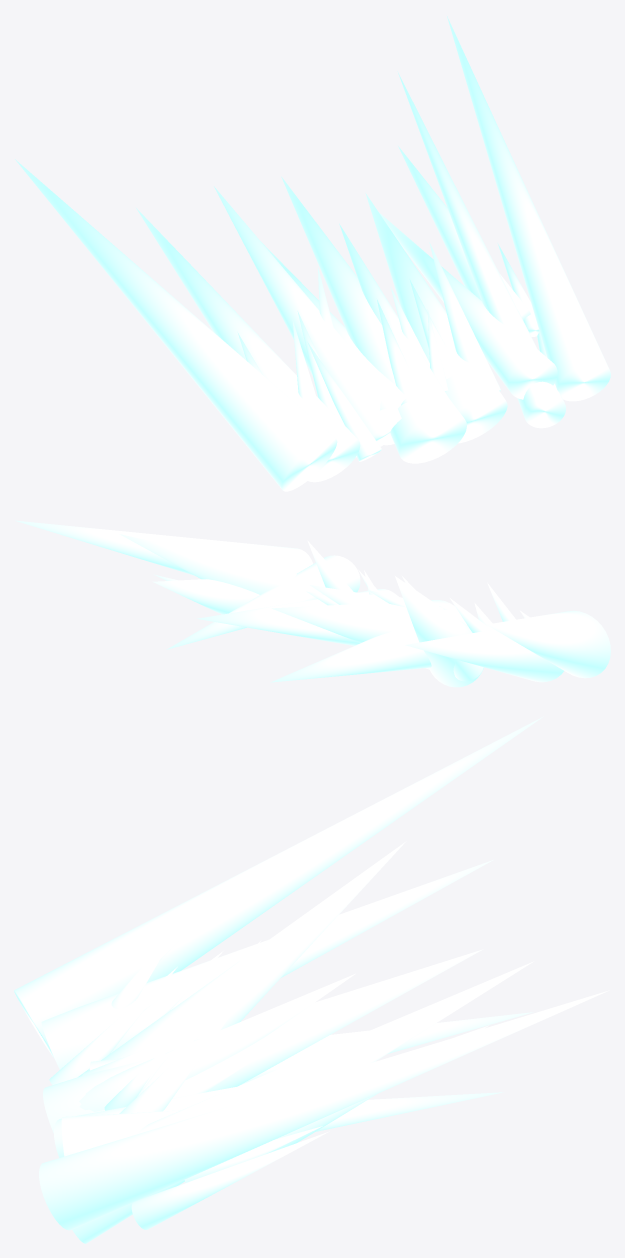
The model's file is ice_spikes.fbx.
3 renders of one model, top to bottom at view 1: azimuth 30°, elevation 25°; view 2: azimuth 150°, elevation 25°; view 3: azimuth 270°, elevation 25°, orthographic. The views are drawn at different scales.
Parts seen in each view (by area): view 1: Cone, Cone.014, Cone.011, Cone.010, Cone.004, Cone.001, Cone.021, Cone.012, Cone.013, Cone.003, Cone.019, Cone.022 (+7 smaller); view 2: Cone, Cone.014, Cone.002, Cone.001, Cone.011, Cone.021, Cone.012, Cone.010, Cone.004, Cone.013, Cone.003, Cone.019 (+4 smaller); view 3: Cone.014, Cone, Cone.011, Cone.010, Cone.021, Cone.001, Cone.012, Cone.003, Cone.020, Cone.019, Cone.002, Cone.022 (+9 smaller).
Boxes of the visible parts, bbox=[...] form: Cone: bbox=[15, 159, 337, 491]; Cone.014: bbox=[447, 16, 610, 401]; Cone.011: bbox=[281, 176, 466, 463]; Cone.010: bbox=[214, 186, 401, 457]; Cone.004: bbox=[365, 193, 507, 443]; Cone.001: bbox=[136, 208, 360, 482]; Cone.021: bbox=[397, 71, 565, 428]; Cone.012: bbox=[379, 212, 557, 399]; Cone.013: bbox=[398, 146, 530, 320]; Cone.003: bbox=[339, 223, 449, 399]; Cone.019: bbox=[429, 242, 500, 391]; Cone.022: bbox=[307, 341, 381, 461]; Cone: bbox=[487, 610, 610, 678]; Cone.014: bbox=[15, 520, 313, 575]; Cone.002: bbox=[270, 608, 464, 682]; Cone.001: bbox=[405, 629, 563, 682]; Cone.011: bbox=[271, 600, 466, 669]; Cone.021: bbox=[119, 534, 296, 594]; Cone.012: bbox=[166, 555, 360, 649]; Cone.010: bbox=[395, 576, 483, 687]; Cone.004: bbox=[197, 589, 398, 645]; Cone.013: bbox=[152, 579, 259, 614]; Cone.003: bbox=[310, 585, 387, 604]; Cone.019: bbox=[307, 540, 353, 591]; Cone.014: bbox=[39, 990, 609, 1230]; Cone: bbox=[14, 716, 543, 1058]; Cone.011: bbox=[43, 949, 483, 1133]; Cone.010: bbox=[78, 841, 406, 1076]; Cone.021: bbox=[72, 961, 533, 1243]; Cone.001: bbox=[41, 860, 493, 1069]; Cone.012: bbox=[61, 1092, 503, 1156]; Cone.003: bbox=[79, 973, 355, 1111]; Cone.020: bbox=[131, 1131, 329, 1229]; Cone.019: bbox=[119, 1000, 241, 1113]; Cone.002: bbox=[89, 1012, 533, 1085]; Cone.022: bbox=[49, 966, 177, 1084].
Bounding box in the file's own units: 1099 × 564 × 952.
